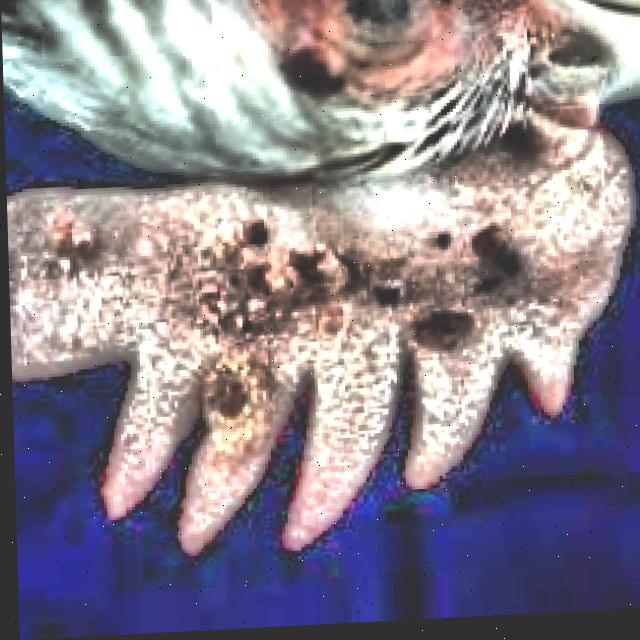Fowlpox: (46, 170, 522, 449)
